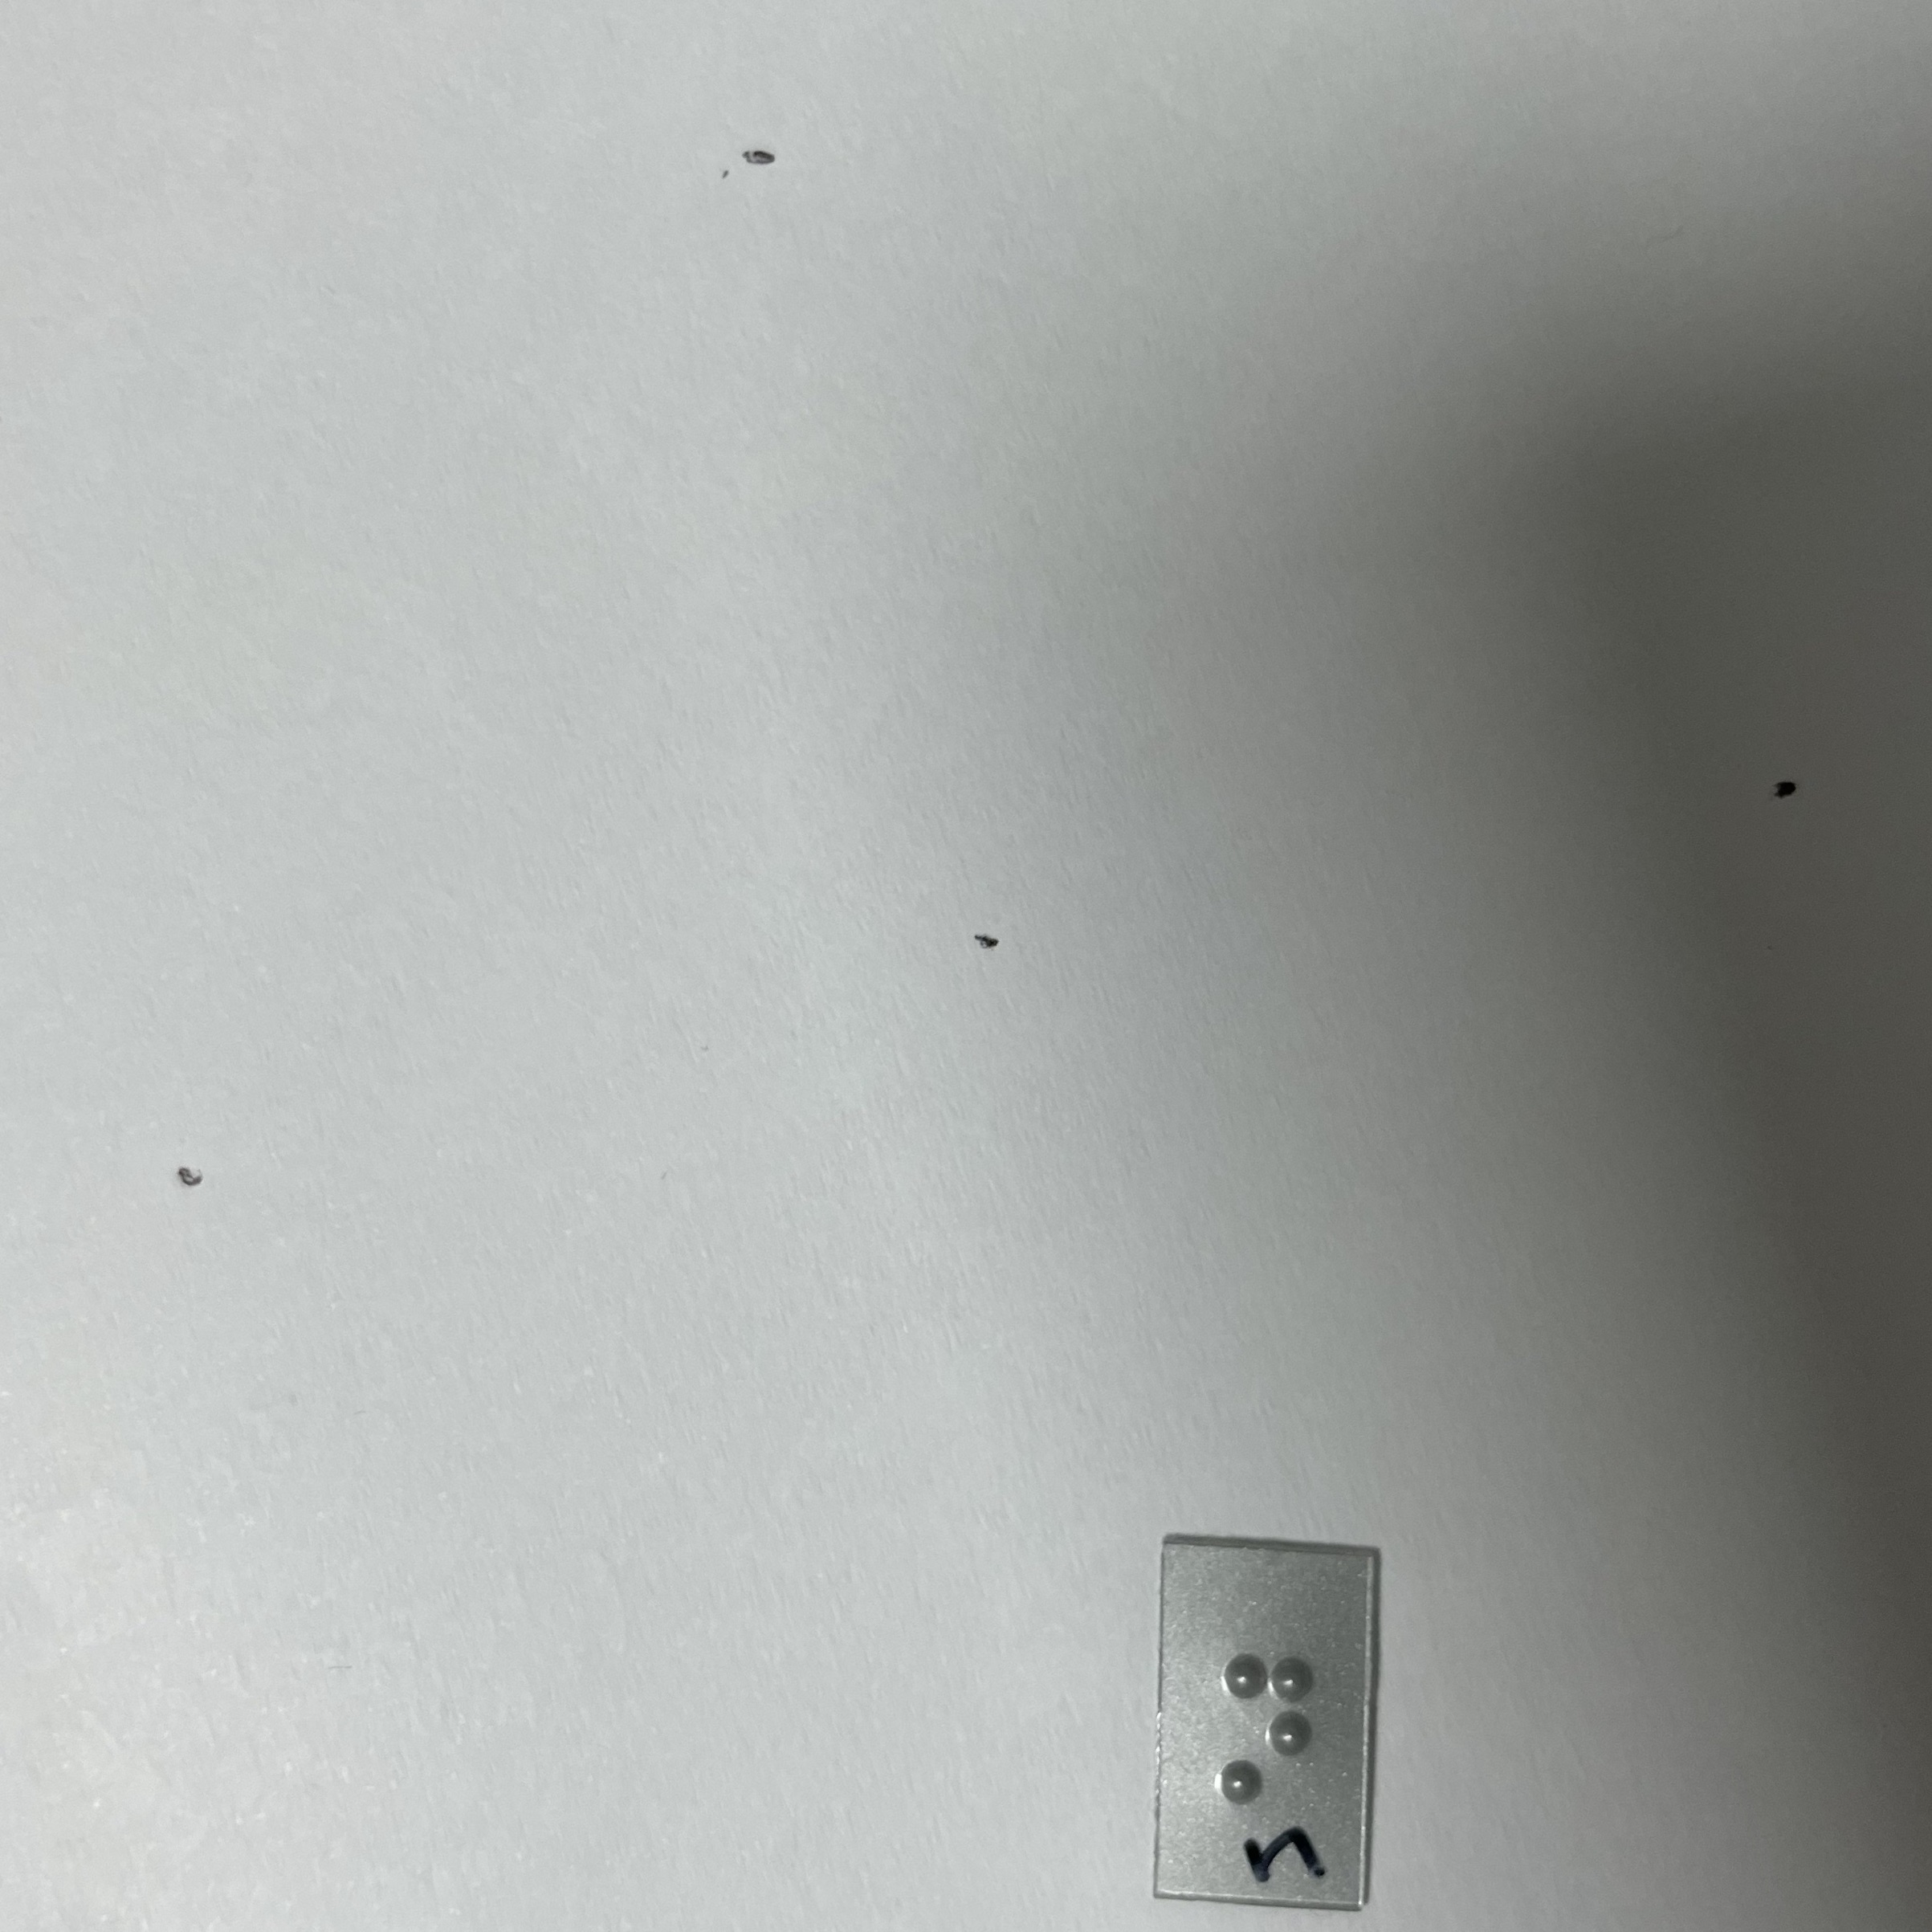n: (1206, 1640, 1326, 1817)
